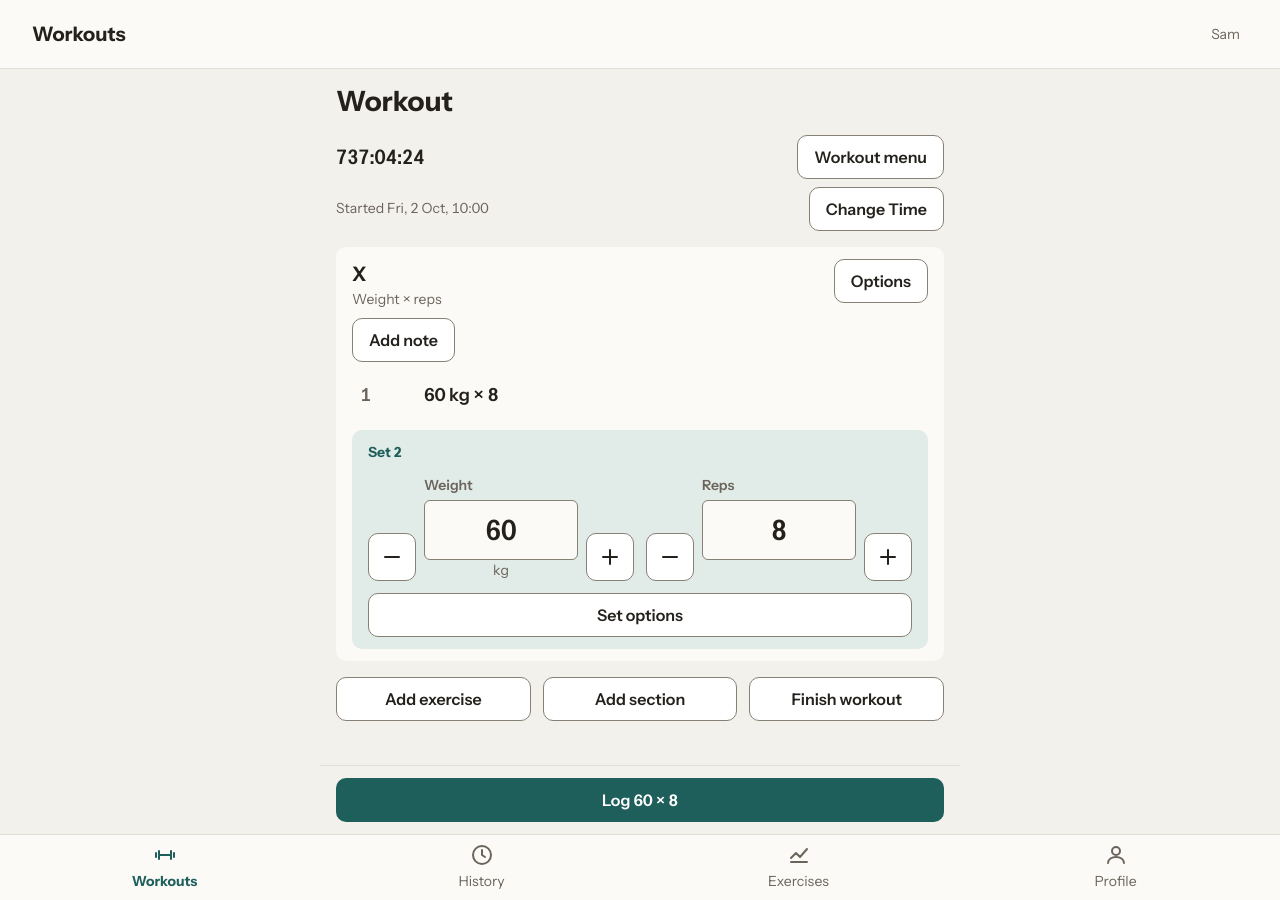
it: AC28 — other finish outcomes › 422 says the device clock looks wrong
Expected: the heading "Workout" is shown, [336, 84, 453, 118]
Click the button "Finish workout": (847, 699) [749, 677, 944, 721]
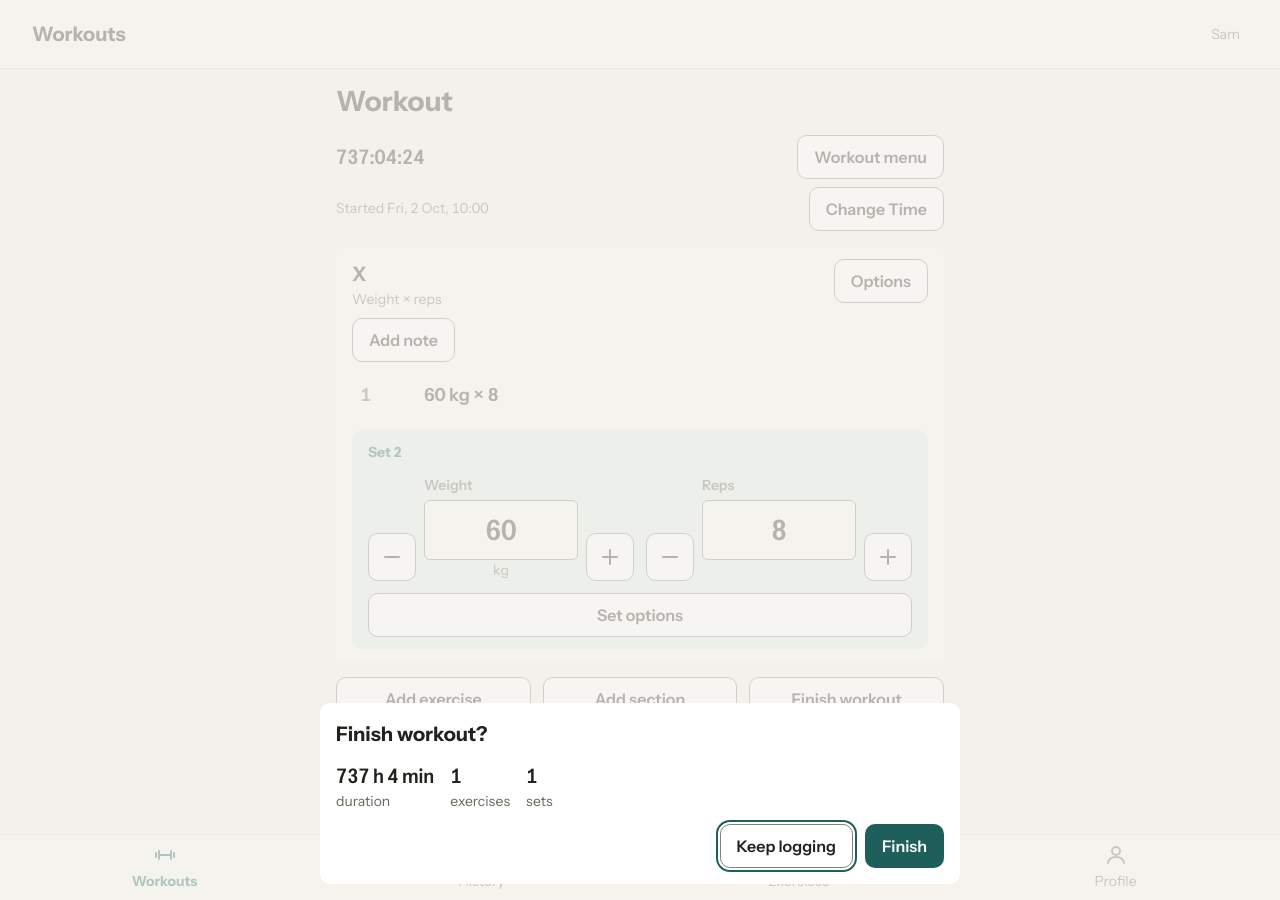
Click the button "Finish": (904, 846) [865, 824, 944, 868]
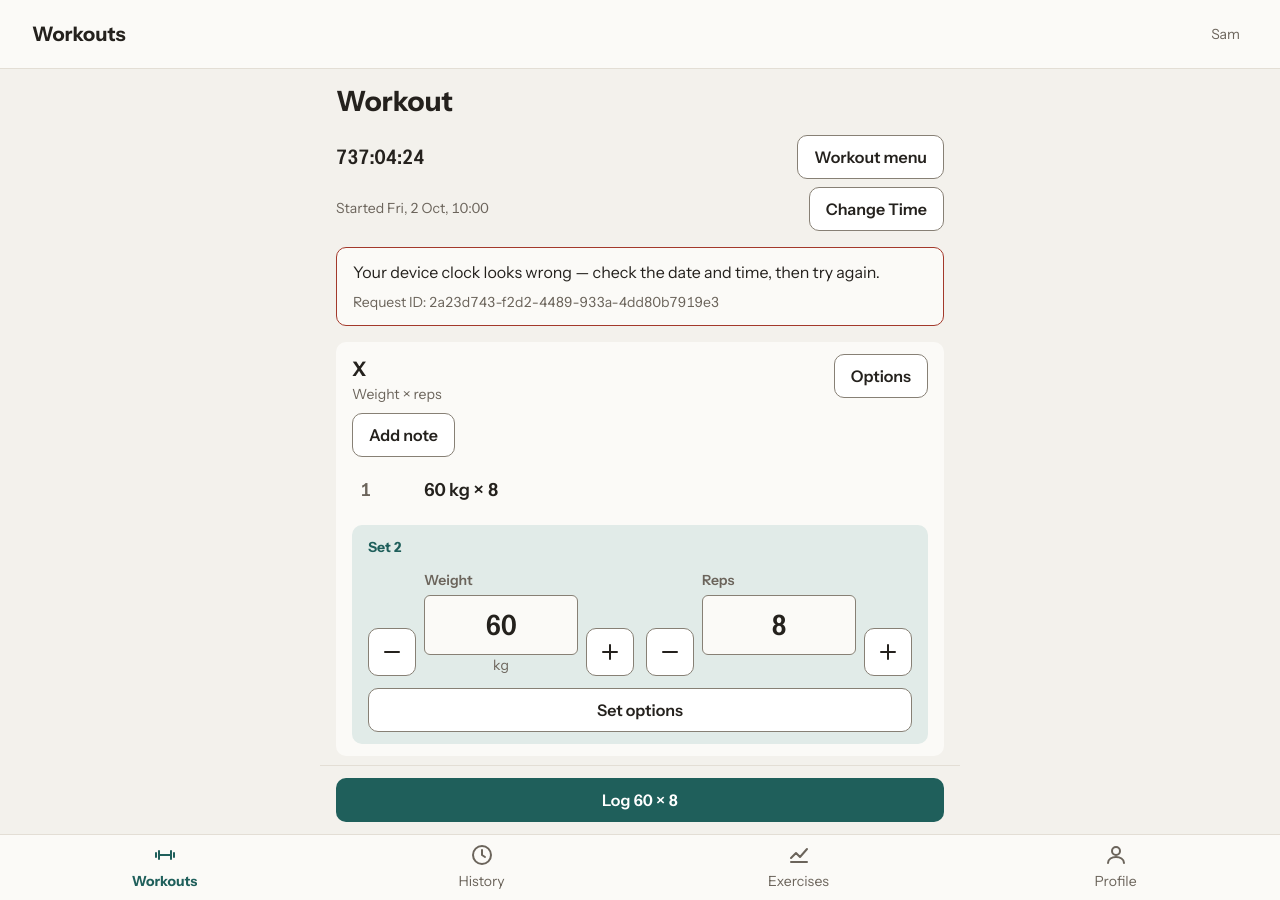
Expected: the message shows "Your device clock looks wrong — check the date and time, then try again.", [353, 262, 880, 282]
